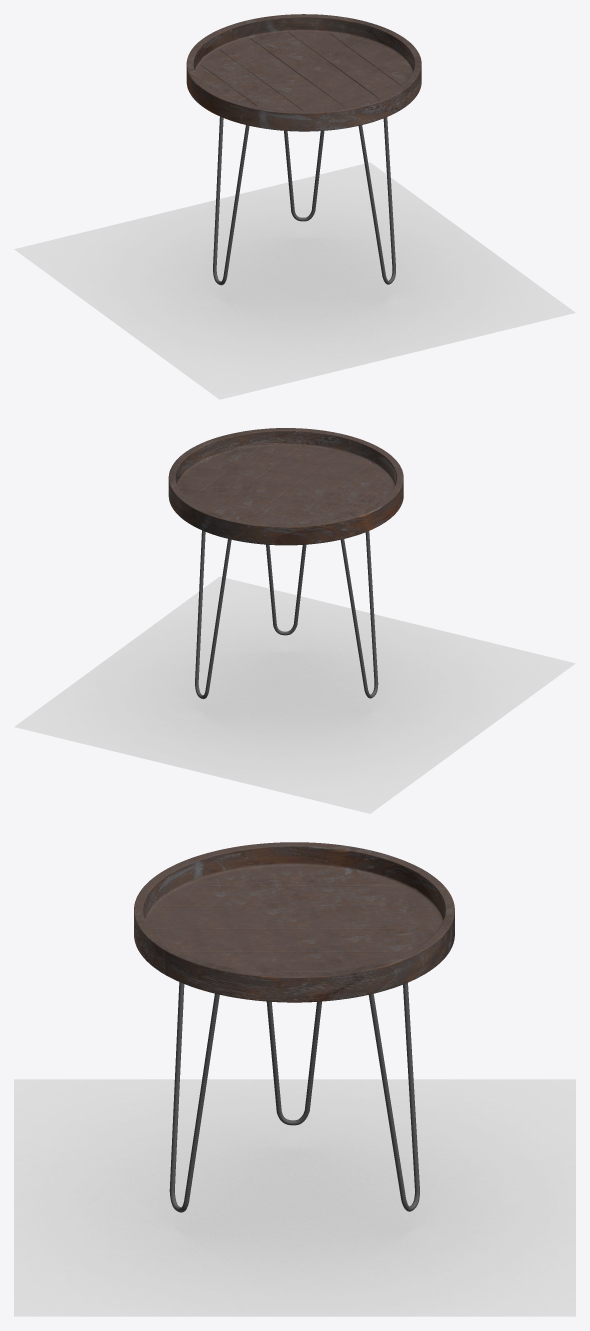
3 renders of one model, top to bottom at view 1: azimuth 30°, elevation 25°; view 2: azimuth 150°, elevation 25°; view 3: azimuth 270°, elevation 25°, orthographic. The views are drawn at different scales.
Visible parts, largest first — view 1: Geode (×4); view 2: Geode (×4); view 3: Geode (×4).
Boxes of the visible parts, x1,y1,x2,y2 form: Geode (×4): (14,14,575,399); Geode (×4): (14,428,575,813); Geode (×4): (14,842,575,1316).
Size of the model in its own units: 1.04 by 0.6036 by 1.04.
Materials: 4 (3 with a texture image).
